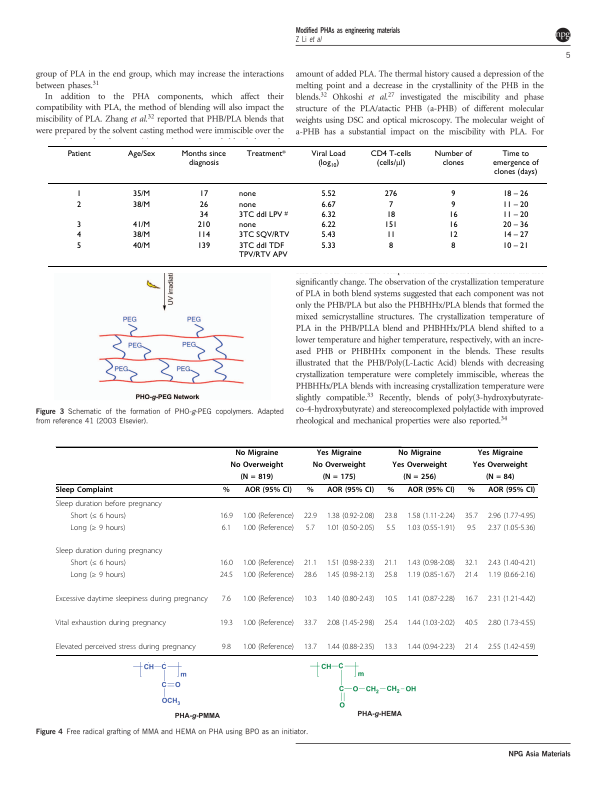borderless: (55, 445, 538, 655), (47, 144, 547, 266)
cell: (491, 148, 539, 177), (55, 595, 209, 604), (55, 643, 197, 652), (55, 499, 163, 509), (55, 547, 163, 557), (55, 619, 167, 628), (238, 240, 288, 259), (369, 147, 412, 169), (180, 148, 226, 167), (310, 148, 346, 169), (433, 148, 472, 167), (69, 511, 127, 521), (69, 559, 127, 569), (69, 523, 126, 533), (69, 571, 126, 581), (55, 486, 114, 495), (242, 511, 295, 521), (242, 523, 295, 533), (242, 559, 295, 569), (242, 571, 295, 581), (238, 230, 290, 240), (391, 461, 448, 470), (472, 461, 528, 470), (238, 209, 288, 219), (406, 511, 456, 521), (406, 523, 456, 533), (406, 559, 456, 569), (406, 571, 456, 581), (326, 511, 375, 521), (487, 511, 536, 521), (326, 523, 375, 533), (487, 523, 536, 533), (326, 559, 375, 569), (487, 559, 536, 569), (326, 571, 375, 581), (487, 571, 536, 581), (230, 461, 284, 470), (312, 461, 366, 470), (242, 595, 295, 604), (242, 619, 295, 628), (242, 643, 295, 652), (406, 595, 456, 604), (406, 619, 456, 628), (406, 643, 456, 652), (244, 486, 293, 495), (326, 486, 375, 495), (487, 486, 536, 495), (326, 595, 375, 604), (487, 595, 536, 604), (326, 619, 375, 628), (487, 619, 536, 628), (326, 643, 375, 652), (487, 643, 536, 652), (407, 486, 455, 495), (316, 449, 363, 458), (477, 449, 524, 458), (245, 148, 286, 158), (234, 449, 279, 458), (397, 449, 442, 458), (239, 473, 274, 482), (402, 473, 437, 482), (322, 473, 356, 482), (126, 148, 156, 158), (502, 189, 529, 199), (502, 199, 529, 209), (502, 220, 529, 230), (502, 230, 529, 240), (502, 240, 529, 250), (485, 473, 515, 482), (66, 148, 91, 158), (502, 210, 529, 219), (132, 189, 151, 199), (132, 199, 151, 209), (132, 220, 151, 230), (132, 230, 151, 240), (132, 240, 151, 250), (238, 189, 256, 199), (238, 199, 256, 209), (238, 220, 256, 230), (320, 189, 336, 199), (320, 199, 336, 209), (320, 220, 336, 230), (320, 230, 336, 240), (320, 240, 336, 250), (383, 189, 398, 199), (196, 220, 211, 230), (383, 220, 398, 230), (196, 230, 211, 240), (196, 240, 211, 250), (219, 511, 234, 521), (303, 511, 318, 521), (383, 511, 398, 521), (464, 511, 479, 521), (219, 559, 234, 569), (303, 559, 318, 569), (383, 559, 398, 569), (464, 559, 479, 569), (219, 571, 234, 581), (303, 571, 318, 581), (383, 571, 398, 581), (464, 571, 479, 581), (320, 210, 336, 219), (303, 595, 318, 604), (383, 595, 398, 604), (464, 595, 479, 604), (219, 619, 234, 628), (303, 619, 318, 628), (383, 619, 398, 628), (464, 619, 479, 628), (303, 643, 318, 652), (383, 643, 398, 652), (464, 643, 479, 652), (198, 189, 209, 199), (198, 199, 209, 209), (385, 230, 396, 240), (221, 523, 232, 533), (305, 523, 316, 533), (385, 523, 396, 533), (466, 523, 477, 533), (448, 220, 458, 230), (448, 230, 458, 240), (198, 210, 209, 219), (385, 210, 396, 219), (221, 595, 232, 604), (221, 643, 232, 652), (448, 210, 458, 219), (222, 486, 231, 495), (306, 486, 315, 495), (386, 486, 395, 495), (467, 486, 476, 495), (387, 199, 394, 209), (387, 240, 394, 250), (76, 189, 82, 199), (450, 189, 456, 199), (76, 199, 82, 209), (450, 199, 456, 209), (76, 220, 82, 230), (76, 230, 82, 240), (76, 240, 82, 250), (450, 240, 456, 250)
